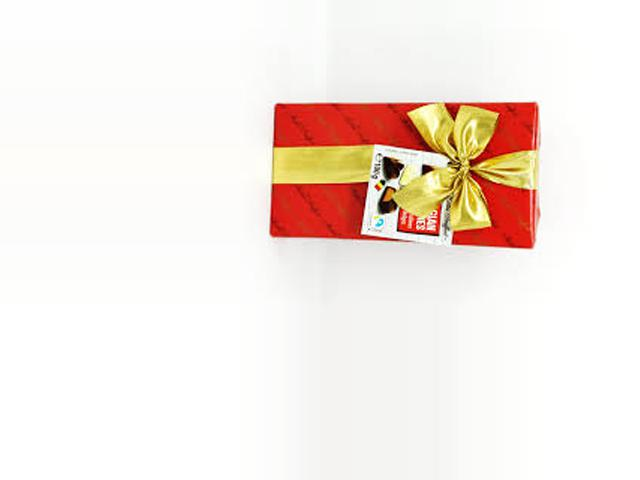chocolate: (272, 88, 547, 246)
